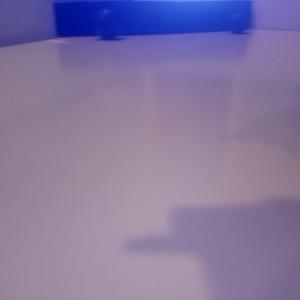dead_ball: (93, 10, 120, 39), (228, 13, 248, 33)
